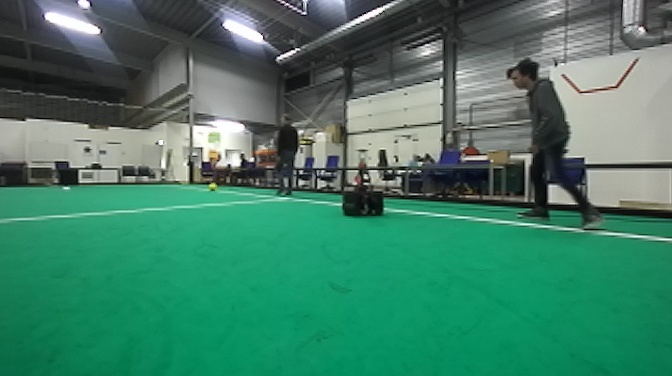ball: (207, 180, 218, 191)
human: (498, 56, 590, 229), (270, 111, 302, 199)
robot: (338, 142, 388, 220)
